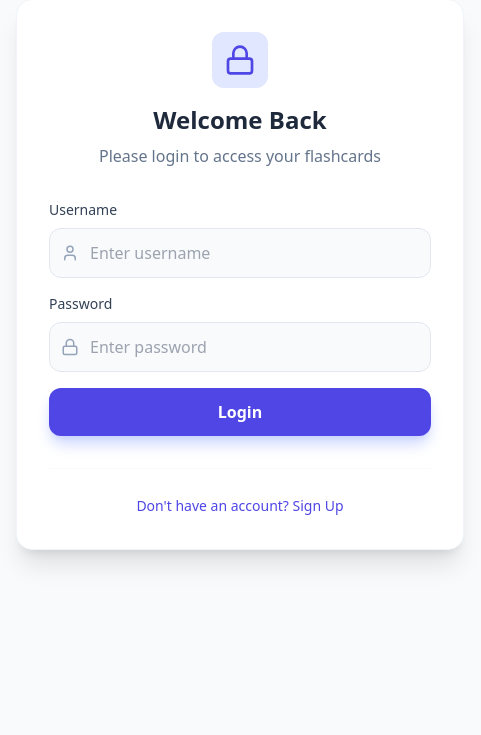
Scenario: Login Component › toggles to registration form
Click the button "Don't have an account? Sign Up". click: (240, 506)
box: [136, 496, 344, 516]
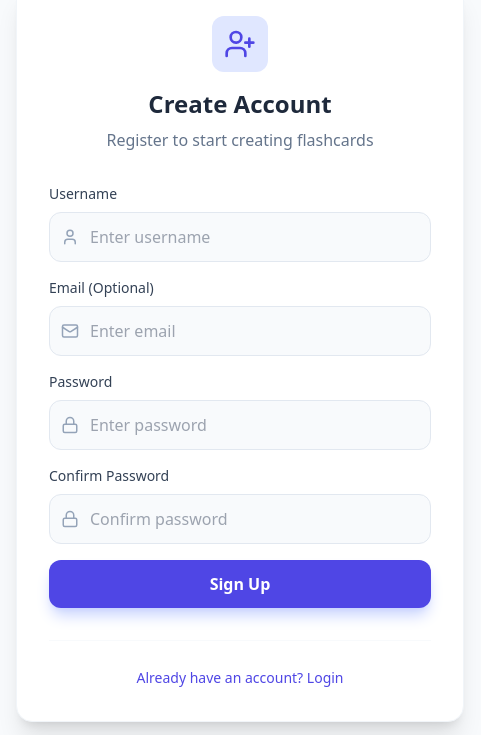
Now the heading "Create Account" is shown, box [148, 87, 332, 120]
Now the field with placeholder "Enter email" is shown, box [49, 306, 431, 356]
Now the password field with placeholder "Confirm password" is shown, box [49, 494, 431, 544]
